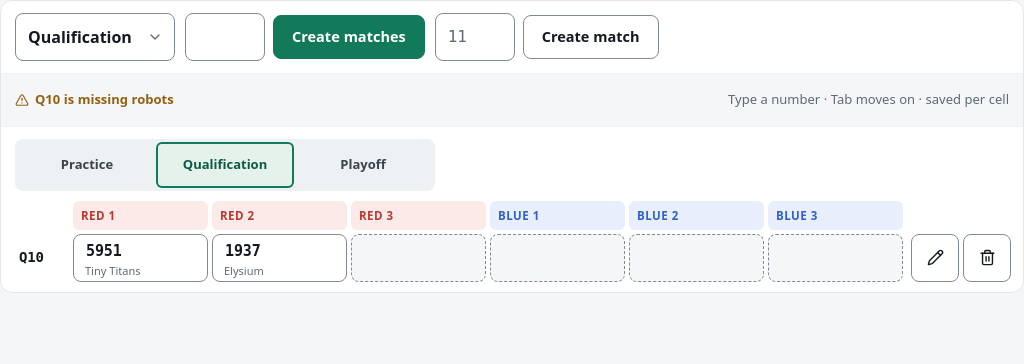
LineupGrid (typed cells) › refuses a number that is not on the roster, sends nothing and keeps the cell
This screenshot has width=1024, height=364.
Type "9999" into the 3rd dropdown named "Q10 Red 3" at (418, 258), box [351,234,486,282]
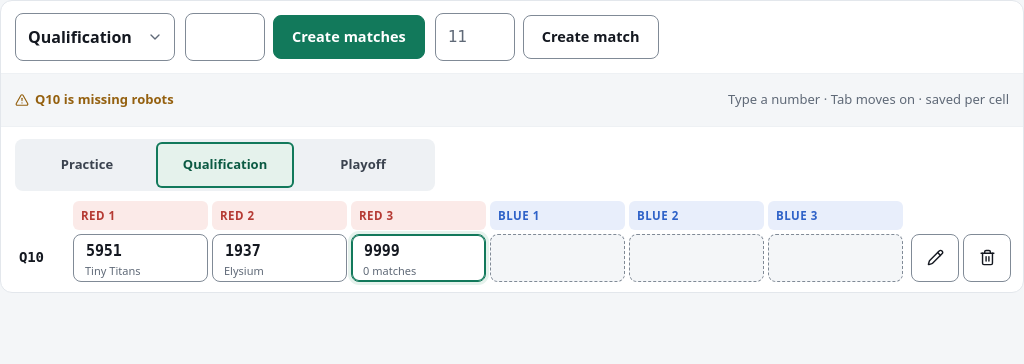
Press Tab
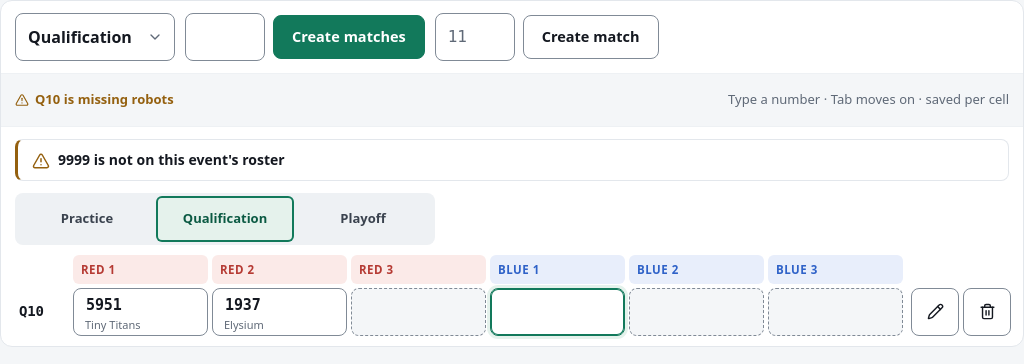
Expected: the 3rd dropdown named "Q10 Red 3" is empty, [351,288,486,336]
Expected: the message reads "9999 is not on this event's roster", [58,150,285,168]
